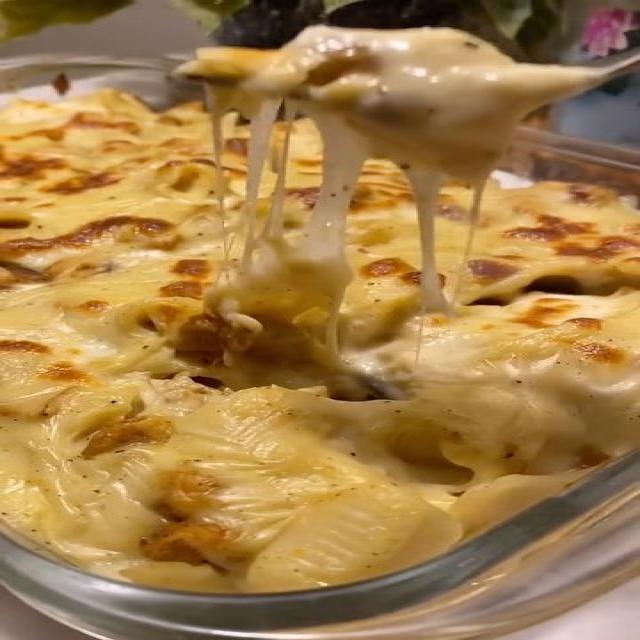Bechamel: (0, 18, 640, 622)
